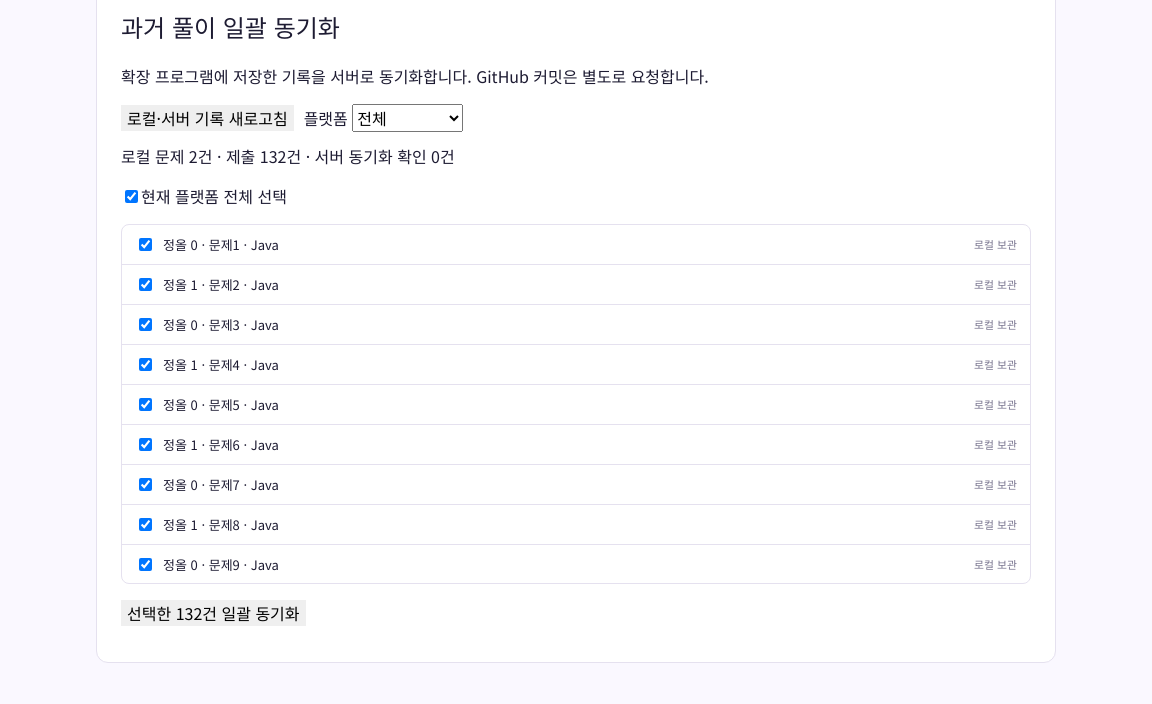
batches 132 submissions and separates problem and submission counts
What coordinates should you click on to do the following:
click the button "선택한 132건 일괄 동기화"
I would click on:
 (213, 613)
Its box is [121, 600, 306, 626].
(page scrolled)
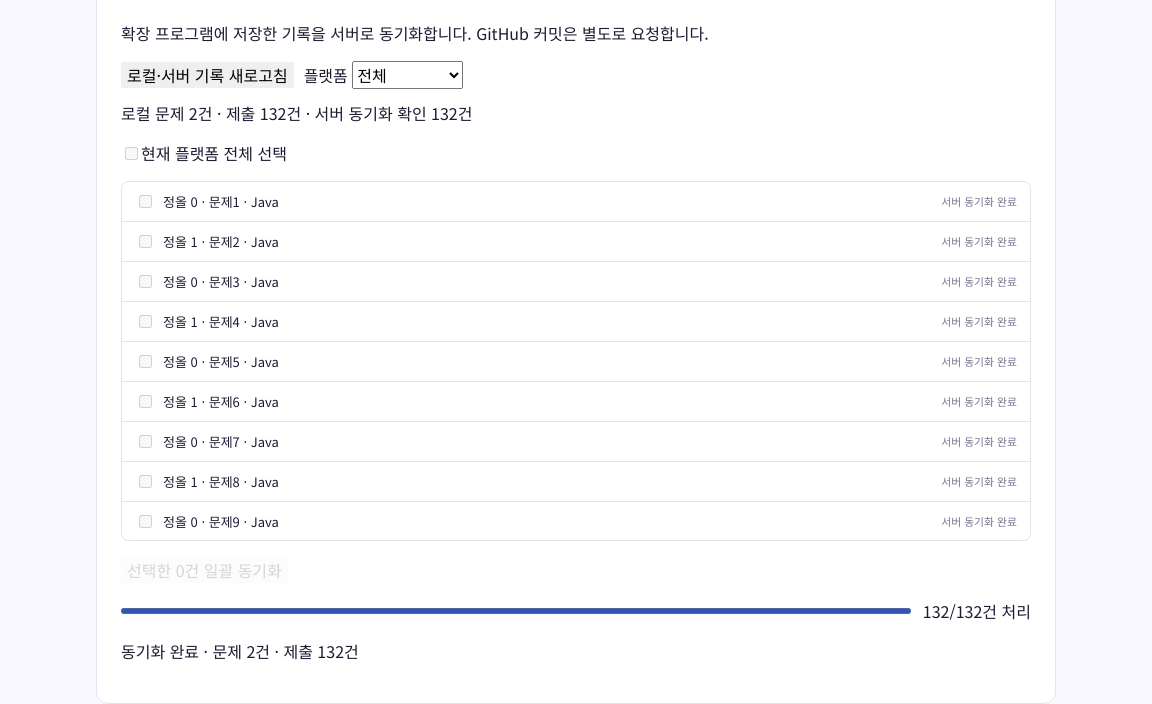
Check: the text "동기화 완료 · 문제 2건 · 제출 132건" is shown, box [121, 639, 359, 663]
